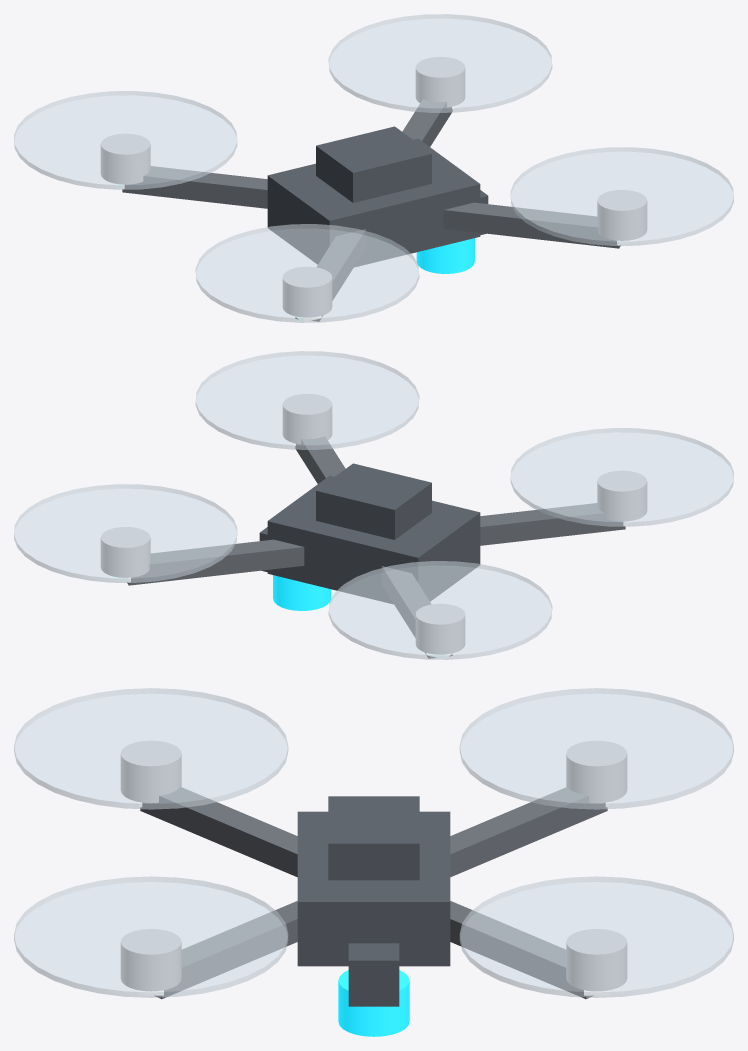
File: drone.glb
3 renders of one model, top to bottom at view 1: azimuth 30°, elevation 25°; view 2: azimuth 150°, elevation 25°; view 3: azimuth 270°, elevation 25°, orthographic. The views are drawn at different scales.
Visible parts, largest first — view 1: rotors, body, arms, motors, sensor; view 2: rotors, body, arms, motors, sensor; view 3: rotors, body, arms, motors, sensor.
Part boxes in pixels (bbox=[...]): rotors: bbox=[14, 14, 733, 322]; body: bbox=[267, 126, 488, 267]; arms: bbox=[122, 99, 620, 321]; motors: bbox=[101, 57, 646, 317]; sensor: bbox=[416, 238, 474, 273]; rotors: bbox=[14, 351, 733, 659]; body: bbox=[259, 463, 480, 604]; arms: bbox=[127, 436, 625, 658]; motors: bbox=[101, 394, 646, 654]; sensor: bbox=[273, 575, 331, 610]; rotors: bbox=[14, 688, 733, 997]; body: bbox=[297, 796, 450, 1006]; arms: bbox=[140, 787, 607, 998]; motors: bbox=[121, 741, 626, 991]; sensor: bbox=[338, 970, 409, 1036].
Bounding box in the file's own units: 1.42 × 0.345 × 1.42.
